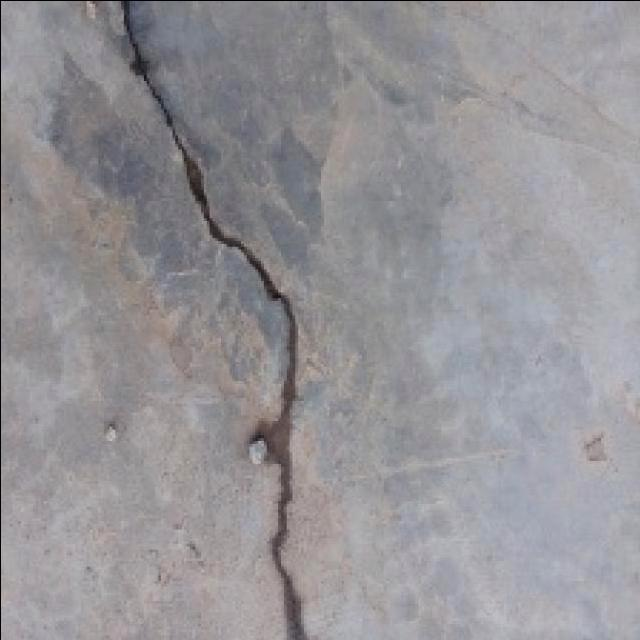SurfaceCrack: (100, 10, 322, 640)
